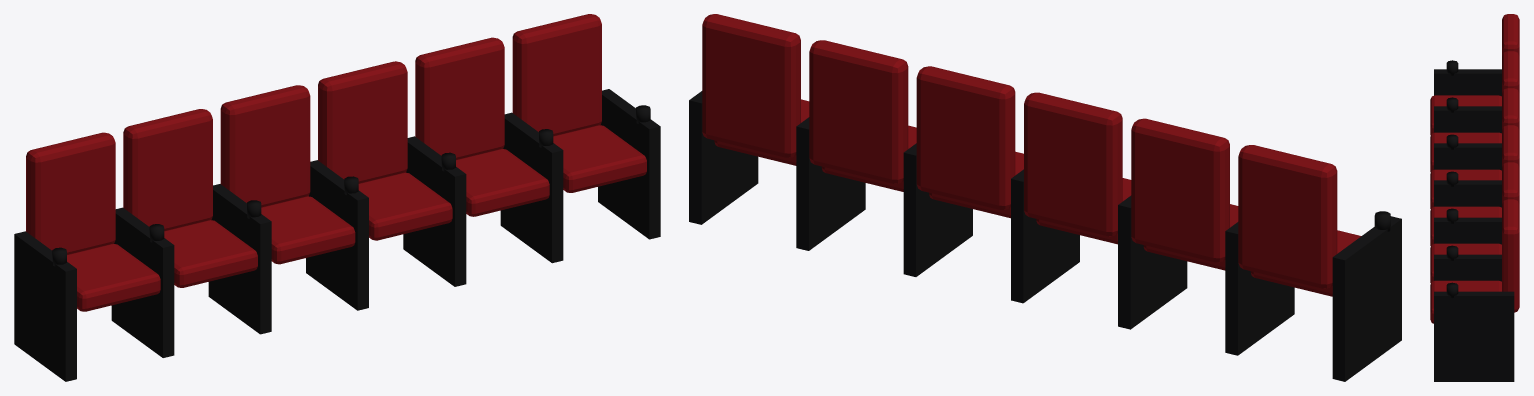
File: cinema_seats.glb
The picture shows the model from 3 angles, left to right: view 1: azimuth 30°, elevation 25°; view 2: azimuth 150°, elevation 25°; view 3: azimuth 270°, elevation 25°; orthographic projection. The views are drawn at different scales.
Parts seen in each view (by area): view 1: cinema_seats; view 2: cinema_seats; view 3: cinema_seats.
Part boxes in pixels (<box>): cinema_seats: <box>14,14,660,381</box>; cinema_seats: <box>689,14,1401,381</box>; cinema_seats: <box>1430,14,1519,381</box>.
Size of the model in its own units: 3.68 by 1.12 by 0.61.
Materials: 1 (1 with a texture image).
